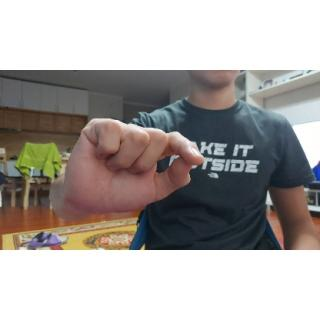FAA: (58, 113, 204, 219)
